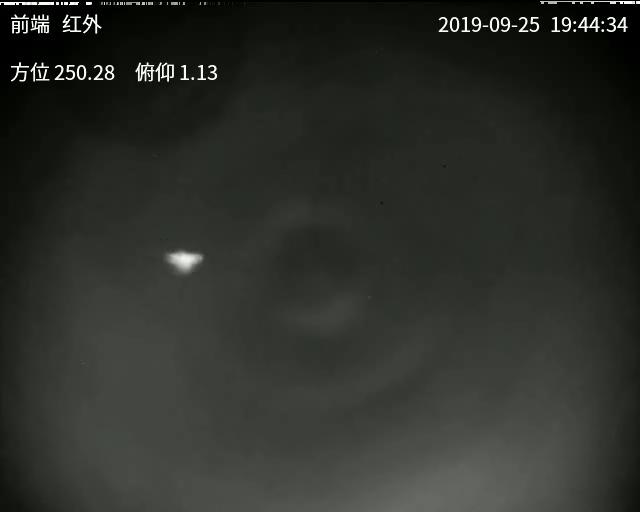uav: (156, 246, 207, 277)
